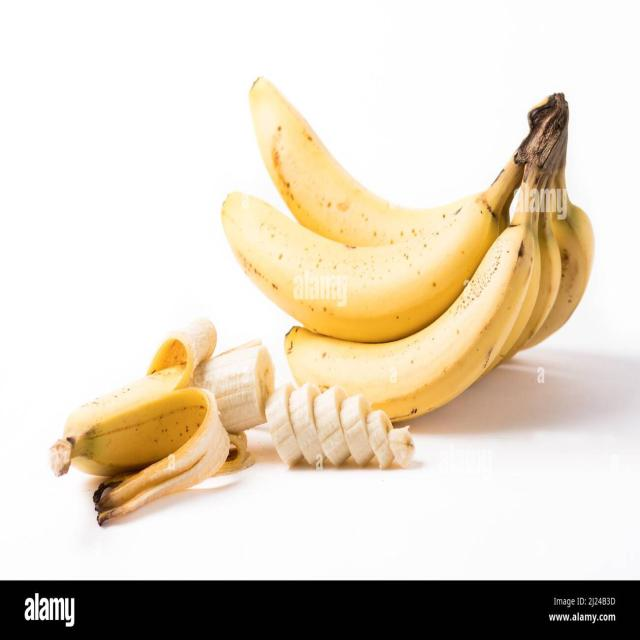Banana: (285, 212, 535, 421), (249, 78, 555, 246), (221, 192, 499, 342)
